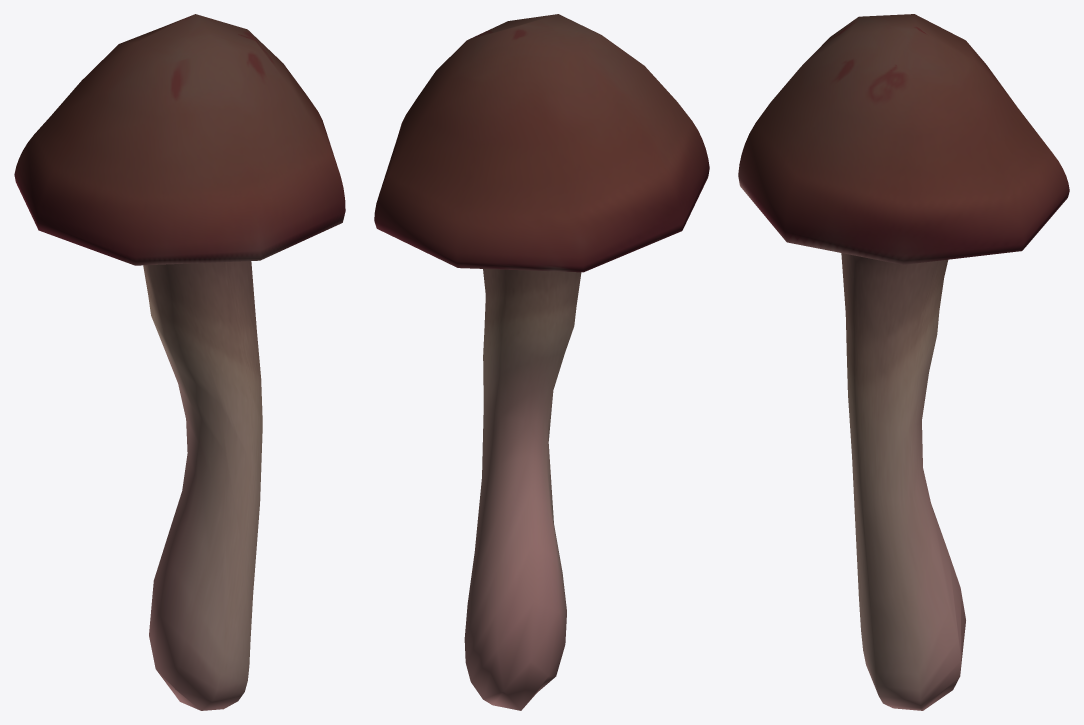
Rendered from Shroom004.glb.
The picture shows the model from 3 angles, left to right: view 1: azimuth 30°, elevation 25°; view 2: azimuth 150°, elevation 25°; view 3: azimuth 270°, elevation 25°; orthographic projection. The views are drawn at different scales.
Parts seen in each view (by area): view 1: Mushroom01.004; view 2: Mushroom01.004; view 3: Mushroom01.004.
Boxes of the visible parts, <box> form: Mushroom01.004: <box>14,14,345,710</box>; Mushroom01.004: <box>374,14,709,710</box>; Mushroom01.004: <box>738,14,1069,710</box>.
Bounding box in the file's own units: 0.0758 × 0.1722 × 0.077.
Materials: 1 (1 with a texture image).
